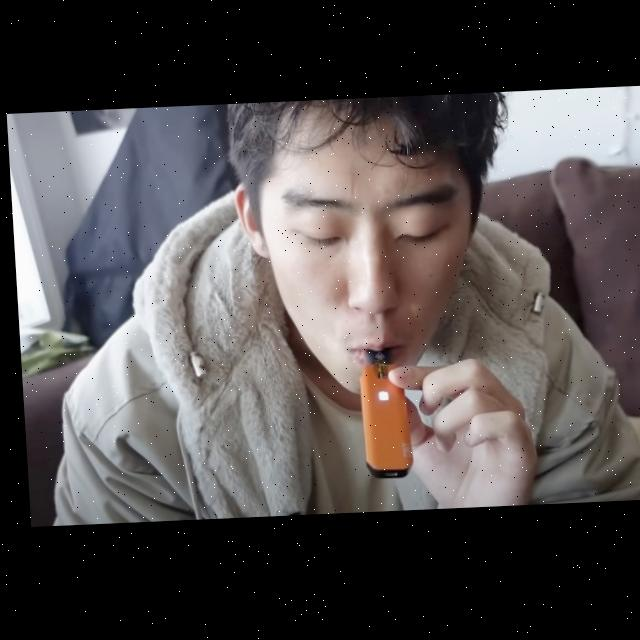vape: (353, 352, 409, 483)
